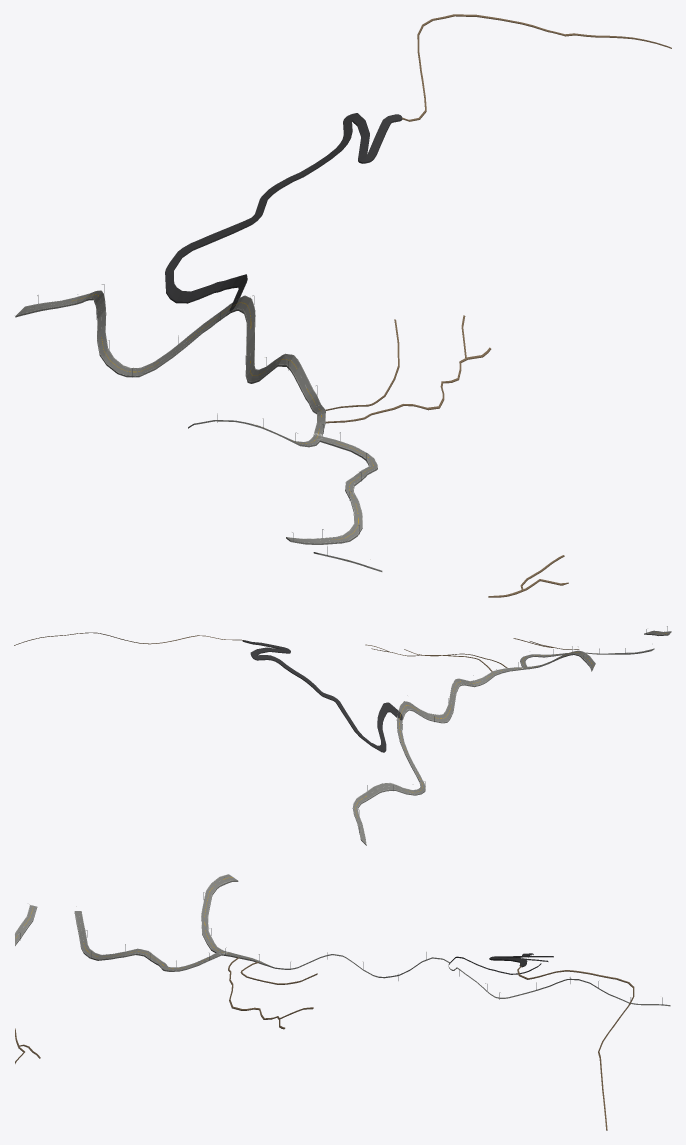
3 renders of one model, top to bottom at view 1: azimuth 30°, elevation 25°; view 2: azimuth 150°, elevation 25°; view 3: azimuth 270°, elevation 25°, orthographic. The views are drawn at different scales.
Bounding box in the file's own units: 588 × 173 × 585.
